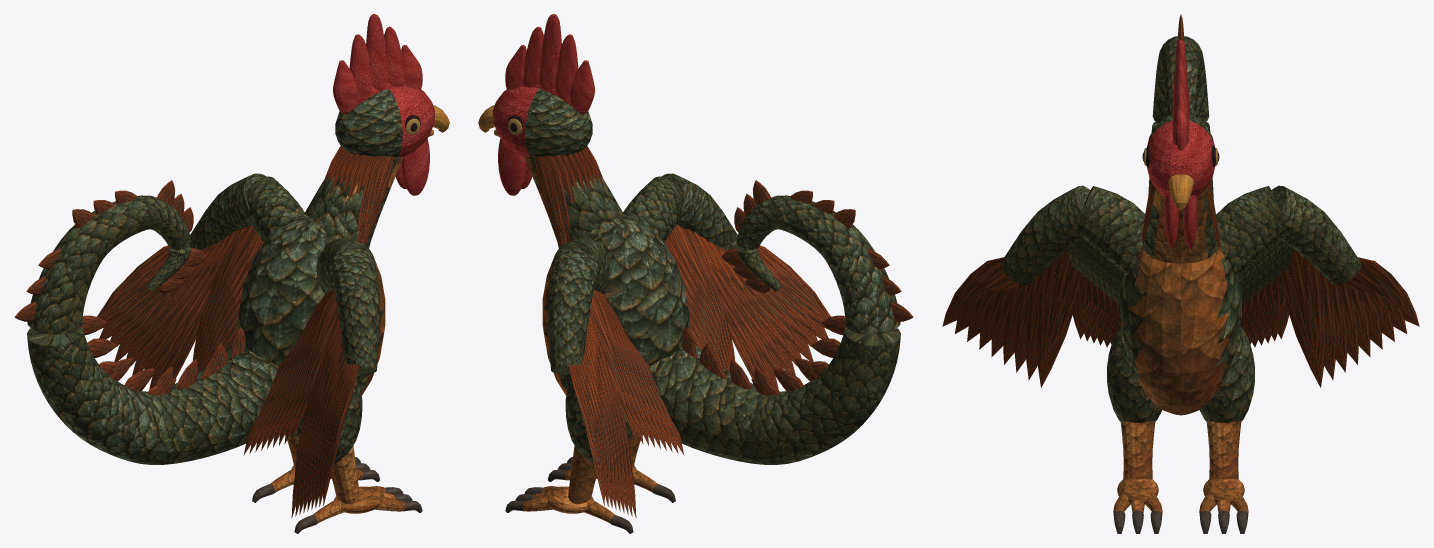
Rendered from basilisco.obj.
3 renders of one model, left to right at view 1: azimuth 30°, elevation 25°; view 2: azimuth 150°, elevation 25°; view 3: azimuth 270°, elevation 25°, orthographic.
Parts seen in each view (by area): view 1: serpent_tail_coat, trunk_coat, left_wing_fore_coat, cranium_coat, neck_coat, right_wing_fore_coat, right_wing_upper_coat, right_secondary_8_flight, cranium_face, left_secondary_8_flight, right_primary_8_flight, right_primary_1_flight (+36 smaller); view 2: serpent_tail_coat, trunk_coat, right_wing_fore_coat, cranium_coat, neck_coat, left_wing_fore_coat, left_wing_upper_coat, left_secondary_8_flight, cranium_face, right_secondary_8_flight, left_primary_8_flight, left_primary_1_flight (+36 smaller); view 3: trunk_belly, left_wing_fore_coat, right_wing_fore_coat, right_wing_upper_coat, left_wing_upper_coat, right_primary_0_flight, left_primary_0_flight, cranium_face, trunk_coat, serpent_tail_coat, left_haunch_coat, right_haunch_coat (+26 smaller).
Part boxes in pixels (<box>): serpent_tail_coat: <box>27,195,278,464</box>; trunk_coat: <box>238,214,383,388</box>; left_wing_fore_coat: <box>328,249,380,374</box>; cranium_coat: <box>335,89,402,156</box>; neck_coat: <box>304,156,399,248</box>; right_wing_fore_coat: <box>189,173,266,249</box>; right_wing_upper_coat: <box>245,176,304,242</box>; right_secondary_8_flight: <box>192,225,259,360</box>; cranium_face: <box>389,86,434,157</box>; left_secondary_8_flight: <box>290,290,337,442</box>; right_primary_8_flight: <box>97,245,169,329</box>; right_primary_1_flight: <box>149,235,228,389</box>; serpent_tail_coat: <box>649,195,900,464</box>; trunk_coat: <box>544,214,689,388</box>; right_wing_fore_coat: <box>547,249,599,374</box>; cranium_coat: <box>525,89,592,156</box>; neck_coat: <box>528,156,623,248</box>; left_wing_fore_coat: <box>661,173,738,249</box>; left_wing_upper_coat: <box>623,176,682,242</box>; left_secondary_8_flight: <box>668,225,735,360</box>; cranium_face: <box>493,86,538,157</box>; right_secondary_8_flight: <box>590,289,637,442</box>; left_primary_8_flight: <box>758,245,830,329</box>; left_primary_1_flight: <box>700,236,778,389</box>; trunk_belly: <box>1132,244,1229,415</box>; left_wing_fore_coat: <box>1001,185,1090,285</box>; right_wing_fore_coat: <box>1271,185,1360,285</box>; right_wing_upper_coat: <box>1216,186,1286,275</box>; left_wing_upper_coat: <box>1075,186,1144,275</box>; right_primary_0_flight: <box>1281,251,1325,387</box>; left_primary_0_flight: <box>1036,251,1080,387</box>; cranium_face: <box>1146,120,1215,196</box>; trunk_coat: <box>1120,258,1241,415</box>; serpent_tail_coat: <box>1148,36,1213,200</box>; left_haunch_coat: <box>1107,326,1162,422</box>; right_haunch_coat: <box>1199,326,1254,422</box>.
Bounding box in the file's own units: 94.72 × 100 × 88.84.
3 materials, 3 textured.
